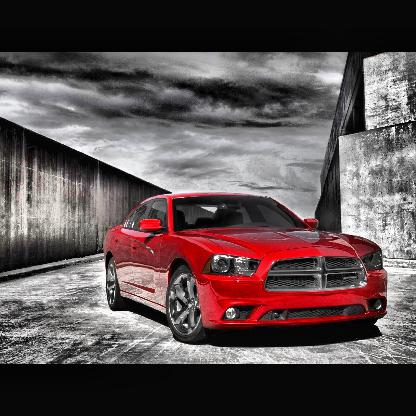Dodge Charger Sedan 2012: (103, 191, 391, 346)
